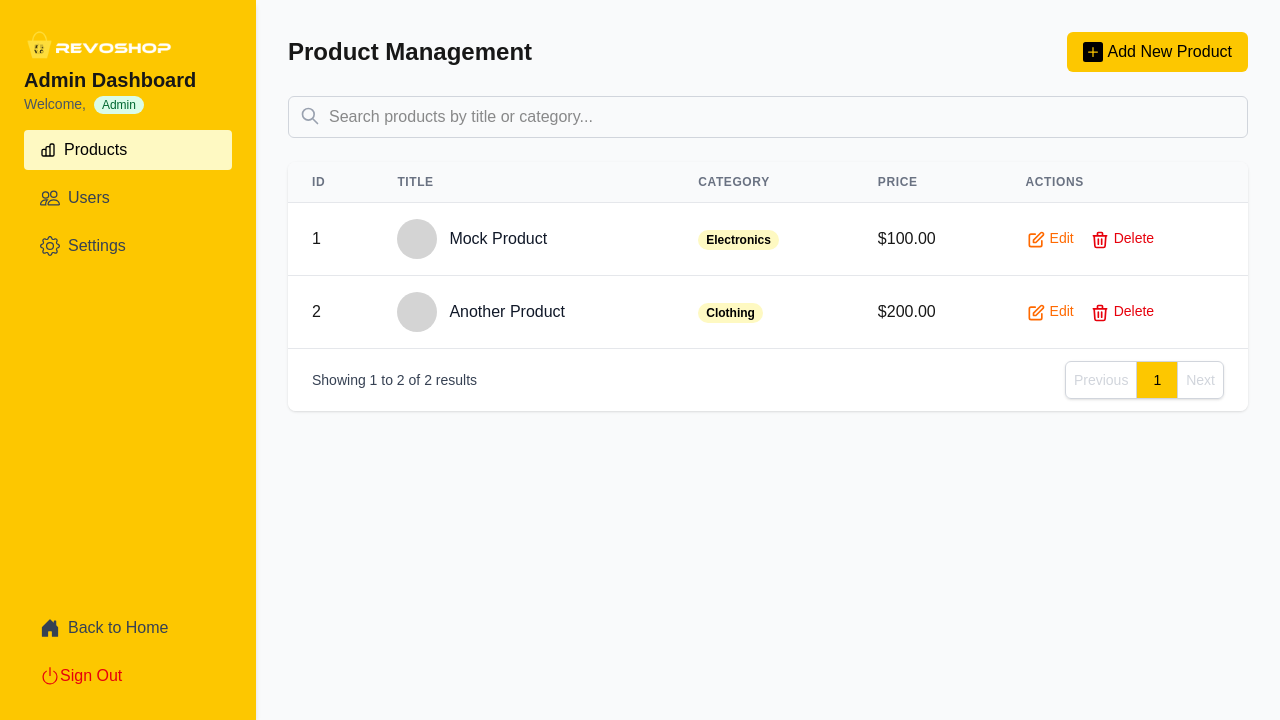
Test: AdminDashboard › Search Functionality › shows all products when search is cleared
Expected: the text "Mock Product" is shown, [449, 227, 547, 251]
Type "Mock" into the field with placeholder "Search products by title or category..." at (768, 117), box [288, 96, 1248, 138]
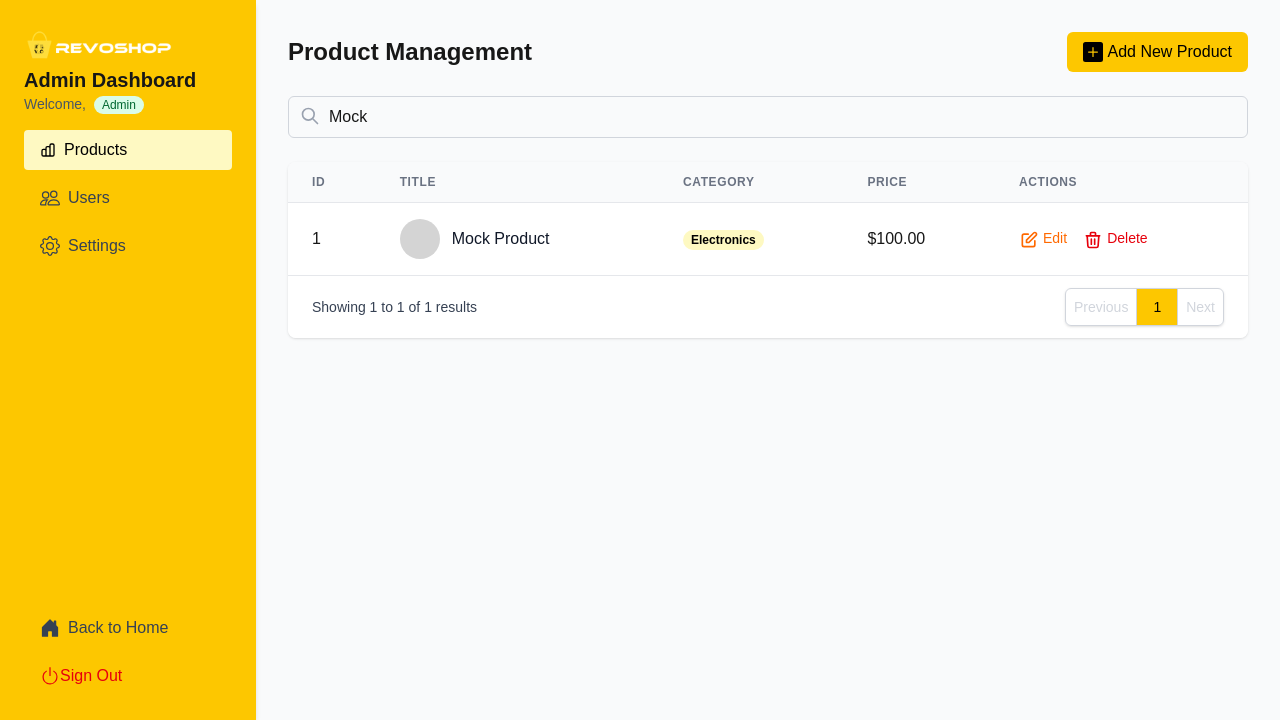
Expected: the text "Another Product" is gone
# Clear search
Clear the field with placeholder "Search products by title or category..." at (768, 117), box [288, 96, 1248, 138]
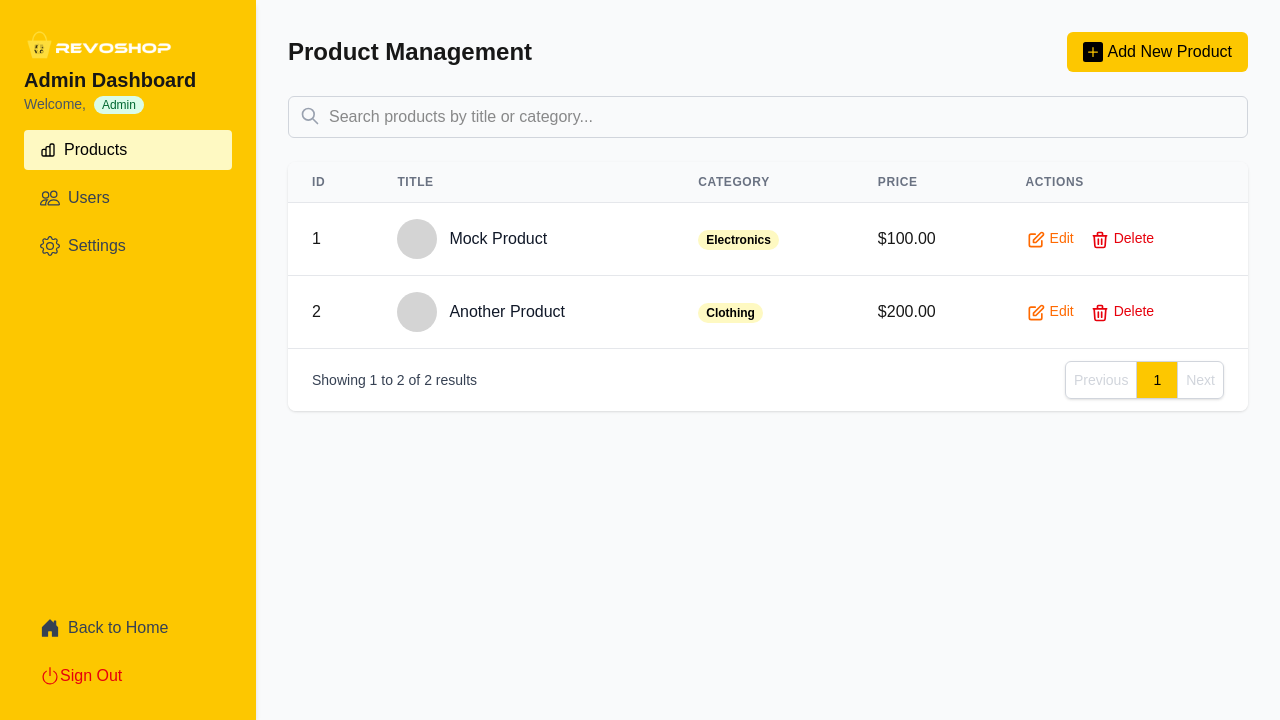
Expected: the text "Mock Product" is shown, [449, 227, 547, 251]
Expected: the text "Another Product" is shown, [449, 300, 565, 324]
